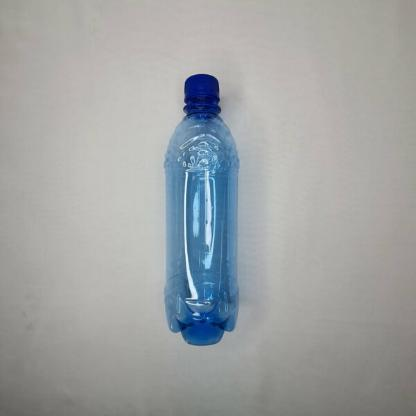Plastic Bottle: (163, 73, 239, 345)
